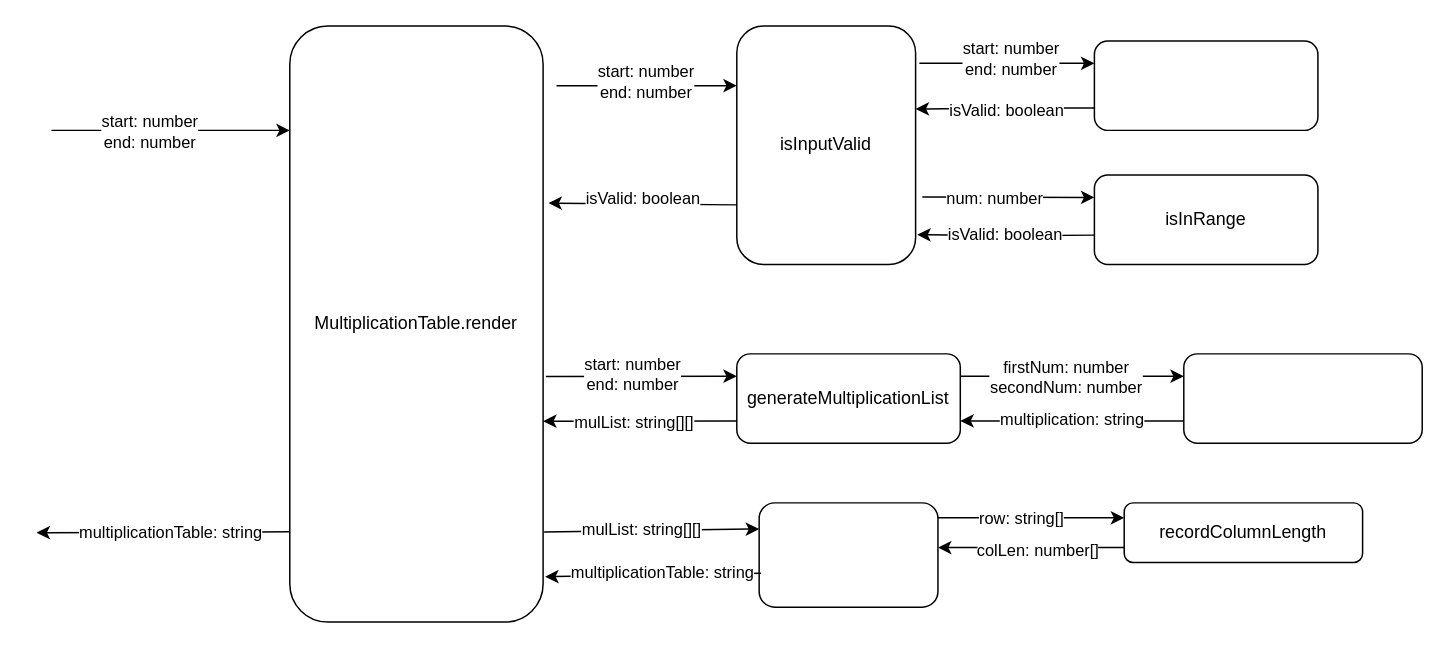
Some shapes in this 1448 by 648 pixel diagram are drawn without their labels. The box of each missing label's shape, as (x1, y1, x2, y2) in pixels:
generateSingleMultiplication: (1182, 352, 1422, 443)
isStartSmallerThanEnd: (1093, 39, 1318, 130)
renderTable: (758, 501, 938, 607)
